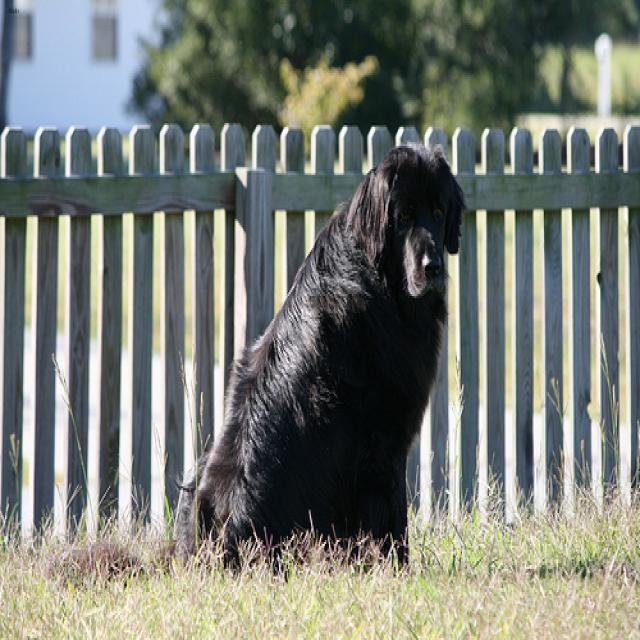dog-newfoundland: (33, 138, 470, 596)
